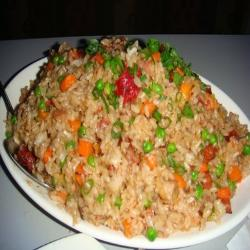rice: (28, 56, 223, 228)
